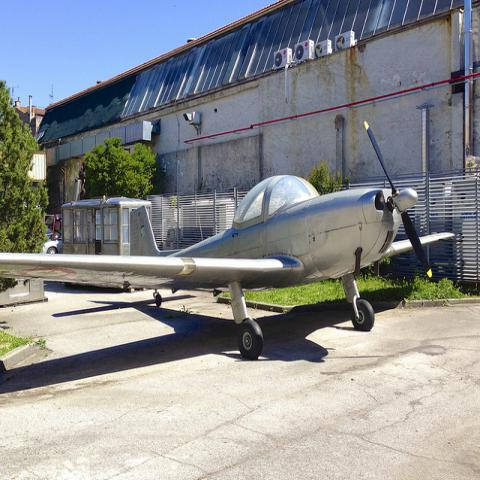car: (42, 240, 60, 254)
